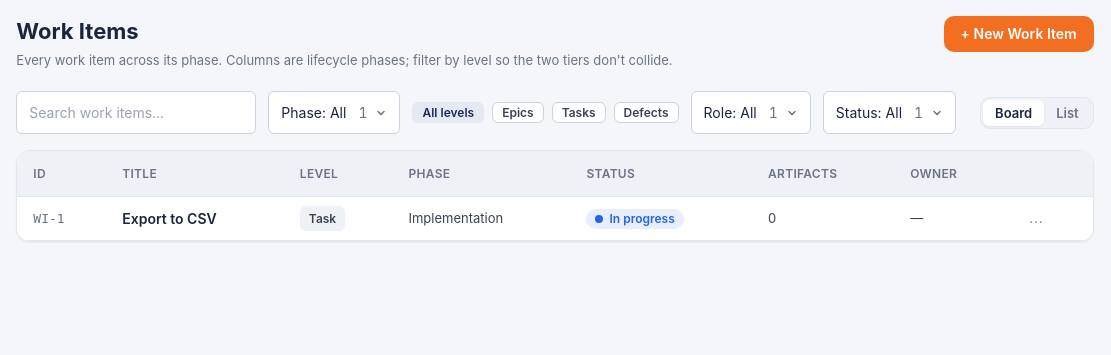
Test: finding a cancelled item to reopen › still offers Cancel on a live row
Expected: the text "Export to CSV" is shown, top-left (122, 210), bottom-right (217, 226)
Click the button named "Actions for WI-1". click: (1036, 218)
box: top-left (1021, 210), bottom-right (1052, 227)
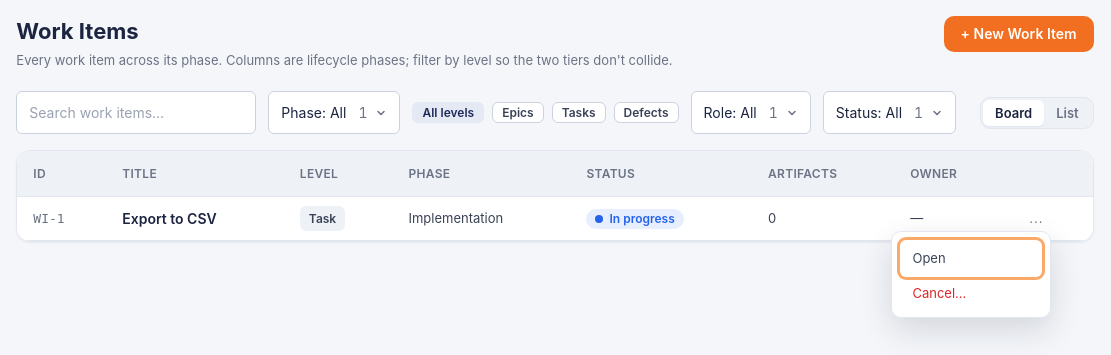
Result: the menu item "Cancel…" is shown at top-left (900, 277), bottom-right (1042, 309)
